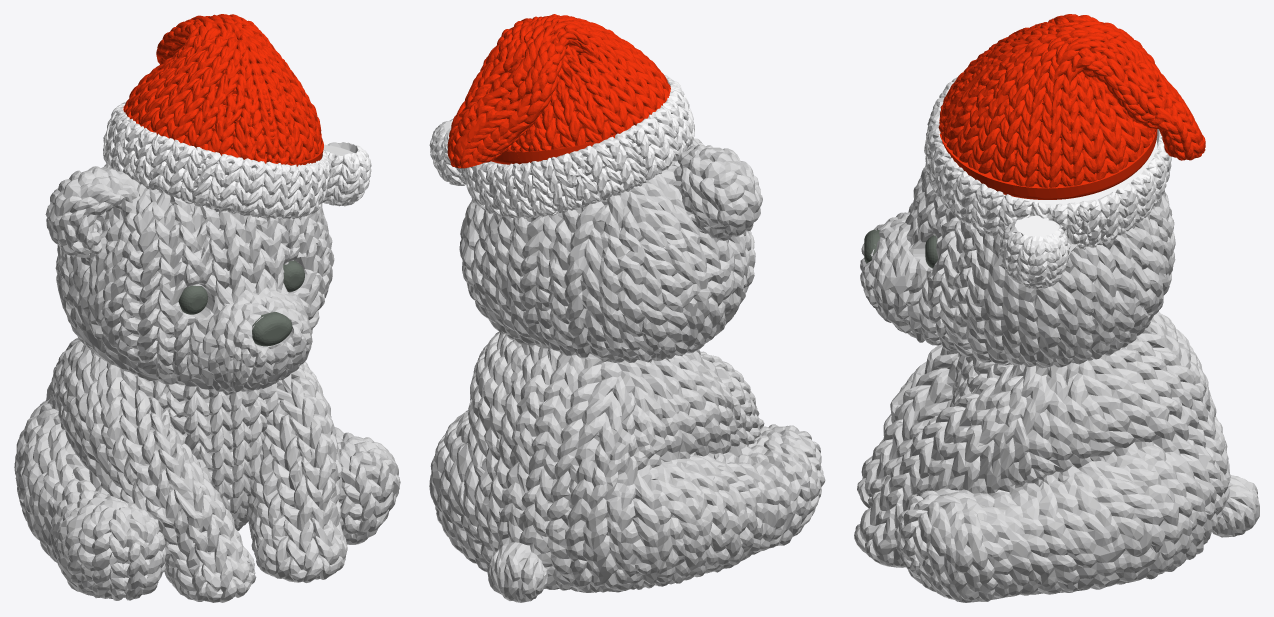
The model's file is oso-polar.glb.
The picture shows the model from 3 angles, left to right: view 1: azimuth 30°, elevation 25°; view 2: azimuth 150°, elevation 25°; view 3: azimuth 270°, elevation 25°; orthographic projection. The views are drawn at different scales.
Visible parts, largest first — view 1: cuerpo, gorro, borde_gorro, detalles; view 2: cuerpo, gorro, borde_gorro; view 3: cuerpo, gorro, borde_gorro, detalles.
Boxes of the visible parts, box(x1,y1,x2,y2) form: cuerpo: box(14, 163, 400, 602); gorro: box(123, 14, 323, 166); borde_gorro: box(103, 102, 371, 219); detalles: box(178, 260, 304, 346); cuerpo: box(429, 138, 825, 602); gorro: box(447, 14, 670, 168); borde_gorro: box(429, 74, 694, 218); cuerpo: box(854, 166, 1259, 602); gorro: box(938, 14, 1205, 199); borde_gorro: box(924, 77, 1171, 289); detalles: box(864, 229, 938, 268).
Size of the model in its own units: 0.0552 by 0.0771 by 0.0533.
